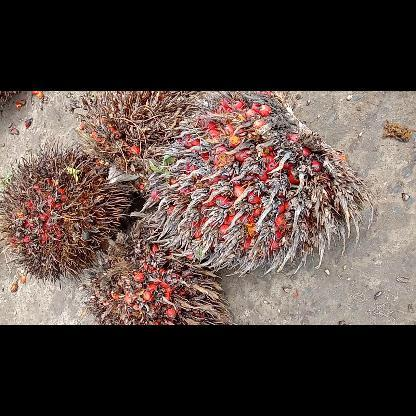Terlalu masak: (139, 90, 375, 280), (0, 137, 141, 291), (84, 233, 236, 324), (80, 91, 204, 197)
